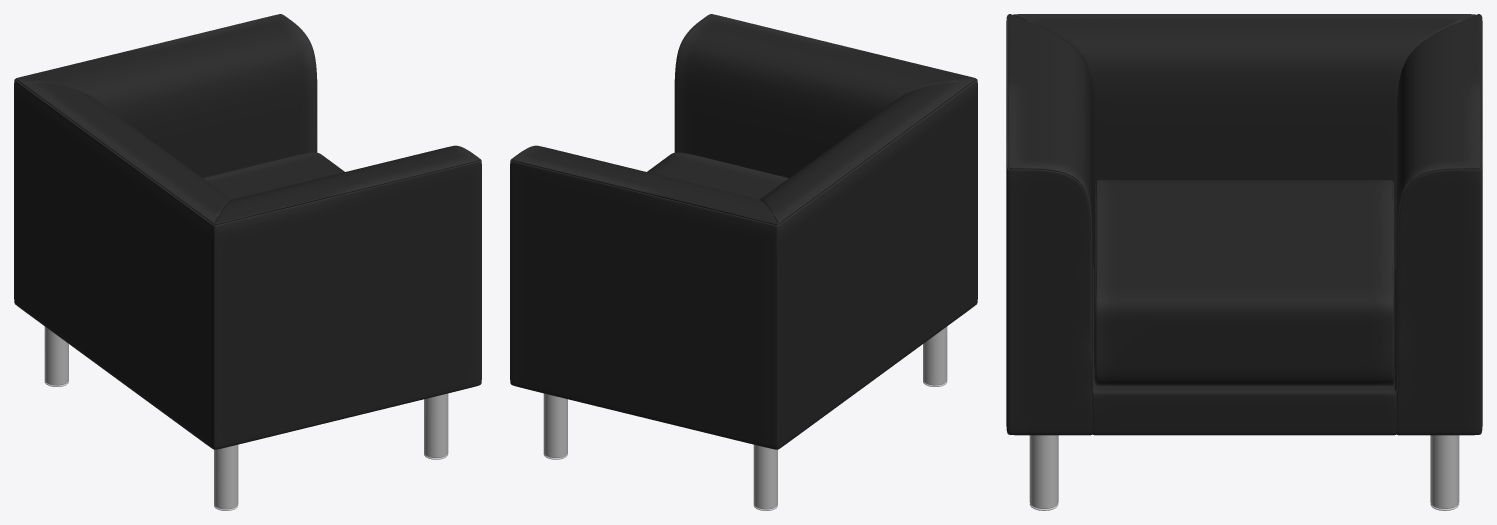
File: chair02.fbx
3 renders of one model, left to right at view 1: azimuth 30°, elevation 25°; view 2: azimuth 150°, elevation 25°; view 3: azimuth 270°, elevation 25°, orthographic. The views are drawn at different scales.
Parts seen in each view (by area): view 1: armchair.008; view 2: armchair.008; view 3: armchair.008.
Part boxes in pixels (box(x1,y1,x2,y2)): armchair.008: box(14, 14, 481, 510); armchair.008: box(510, 14, 977, 510); armchair.008: box(1006, 14, 1482, 510).
Bounding box in the file's own units: 69.12 × 72.34 × 88.
